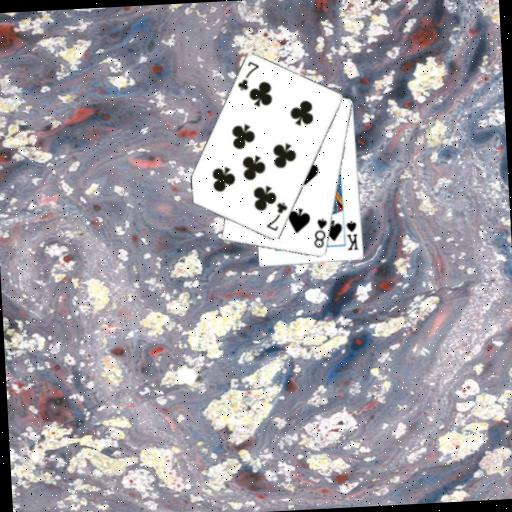7C: (234, 58, 263, 93), (263, 199, 291, 234)
8S: (310, 214, 330, 250)
KS: (343, 217, 360, 252)
